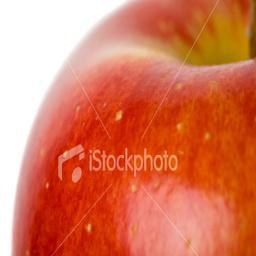apple: (10, 1, 256, 255)
